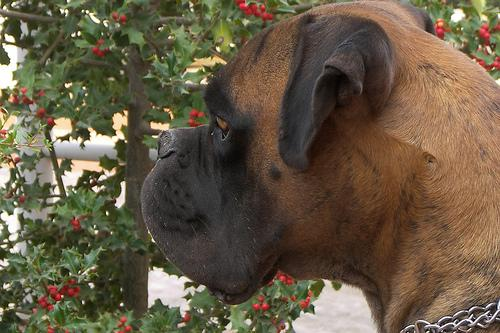dog: (141, 0, 435, 304)
